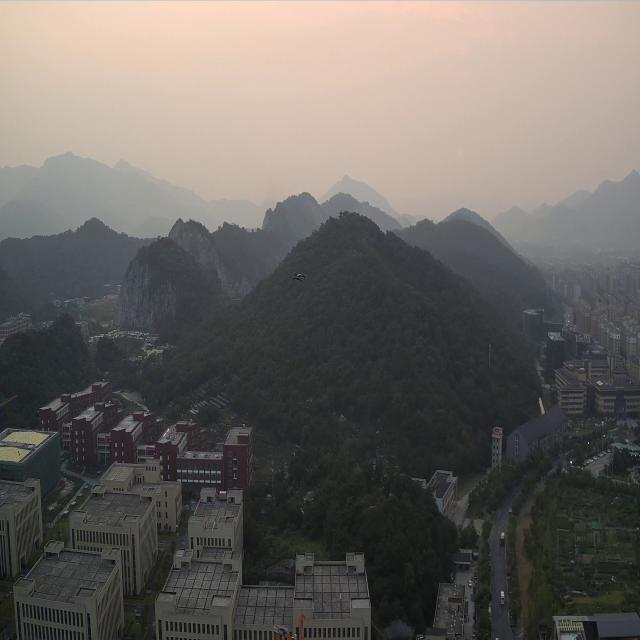UAV: (290, 271, 306, 283)
